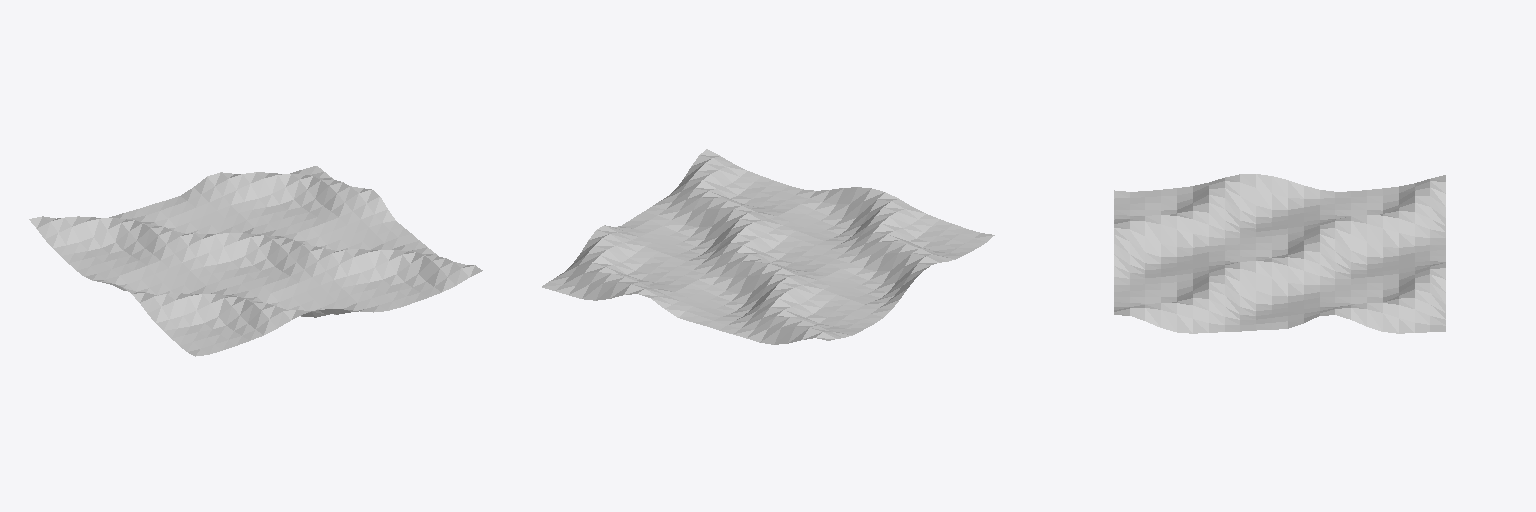
Rendered from Single Tissue.obj.
3 views of the same model, side by side, from view 1: azimuth 30°, elevation 25°; view 2: azimuth 150°, elevation 25°; view 3: azimuth 270°, elevation 25° (orthographic).
Visible parts, largest first — view 1: Single_Tissue; view 2: Single_Tissue; view 3: Single_Tissue.
Boxes of the visible parts, <box> form: Single_Tissue: <box>29,166,482,356</box>; Single_Tissue: <box>542,149,994,344</box>; Single_Tissue: <box>1114,174,1445,333</box>.
Size of the model in its own units: 2 by 0.1584 by 2.